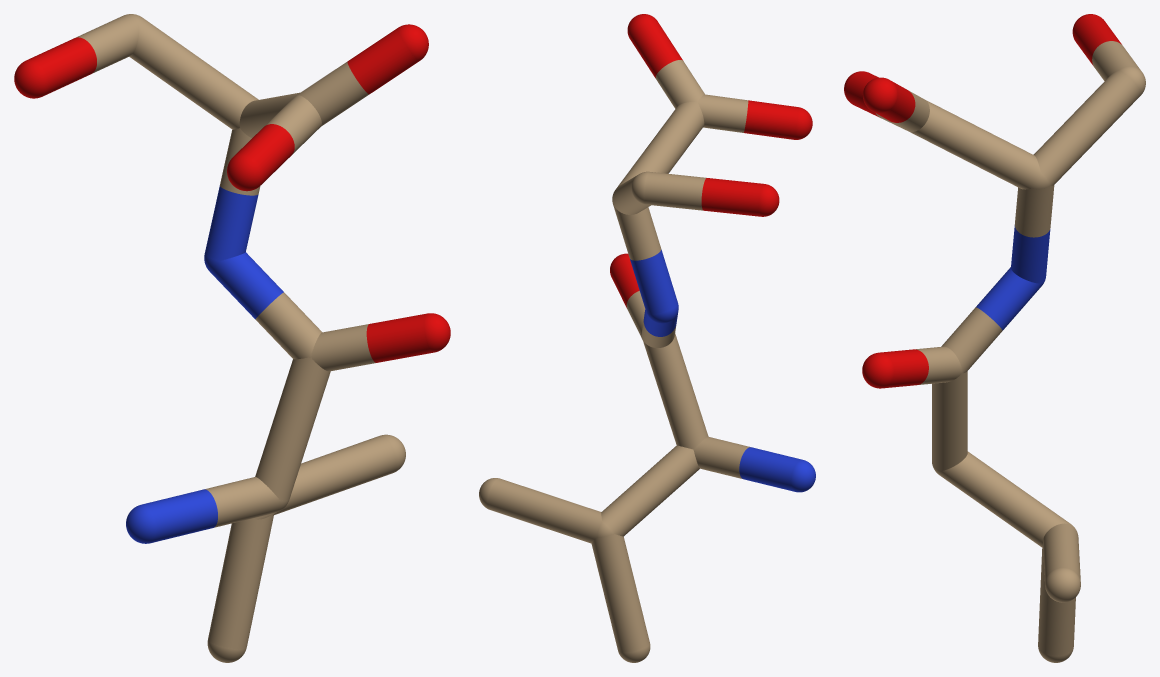
File: dipeptide.glb
3 renders of one model, left to right at view 1: azimuth 30°, elevation 25°; view 2: azimuth 150°, elevation 25°; view 3: azimuth 270°, elevation 25°, orthographic. The views are drawn at different scales.
Visible parts, largest first — view 1: bonds, atoms; view 2: bonds, atoms; view 3: bonds, atoms.
Boxes of the visible parts, <box> form: bonds: <box>28,15,432,649</box>; atoms: <box>14,14,450,662</box>; bonds: <box>487,20,801,652</box>; atoms: <box>479,14,815,662</box>; bonds: <box>846,15,1141,656</box>; atoms: <box>844,14,1145,662</box>.
Bounding box in the file's own units: 4.31 × 7.6 × 3.36.
